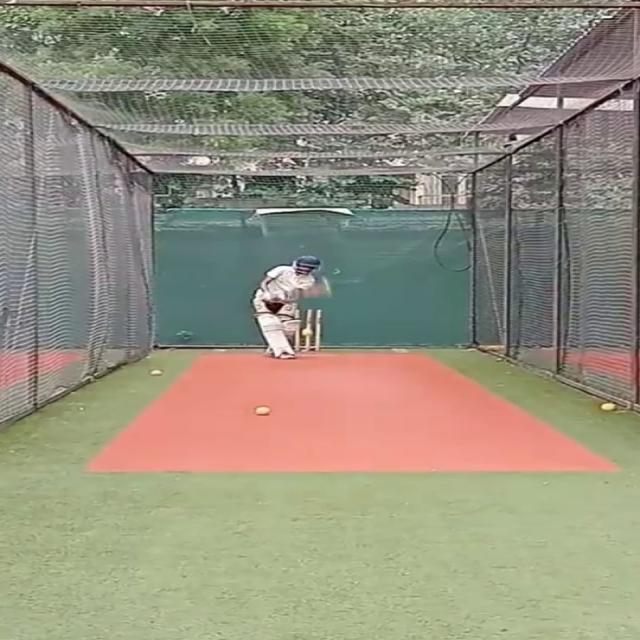ball: (254, 403, 274, 417), (600, 400, 620, 410), (302, 327, 316, 337), (150, 368, 166, 376)
stump: (295, 308, 326, 352)
